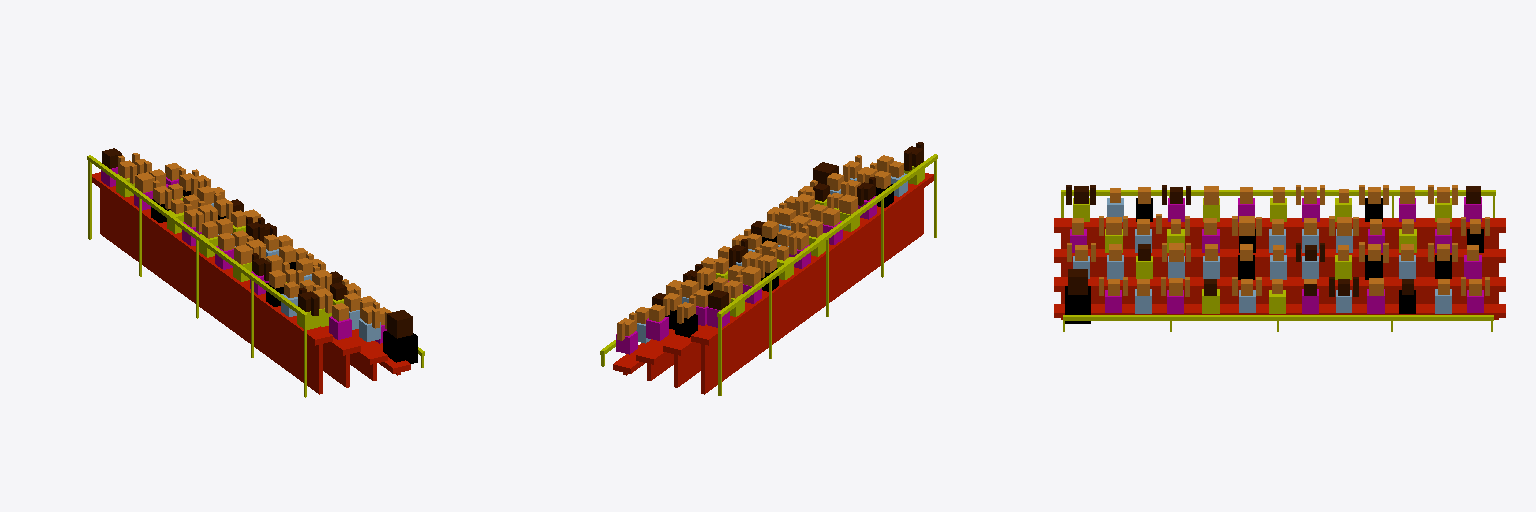
The model's file is Stadium_01.obj.
The picture shows the model from 3 angles: view 1: azimuth 30°, elevation 25°; view 2: azimuth 150°, elevation 25°; view 3: azimuth 270°, elevation 25°; orthographic projection.
Visible parts, largest first — view 1: Stadium_01_Mesh.002; view 2: Stadium_01_Mesh.002; view 3: Stadium_01_Mesh.002.
Part boxes in pixels (left/top/right/bottom): Stadium_01_Mesh.002: left=87, top=148, right=424, bottom=397; Stadium_01_Mesh.002: left=600, top=142, right=937, bottom=395; Stadium_01_Mesh.002: left=1054, top=185, right=1505, bottom=331.
Bounding box in the file's own units: 0.4134 × 0.3055 × 1.33.